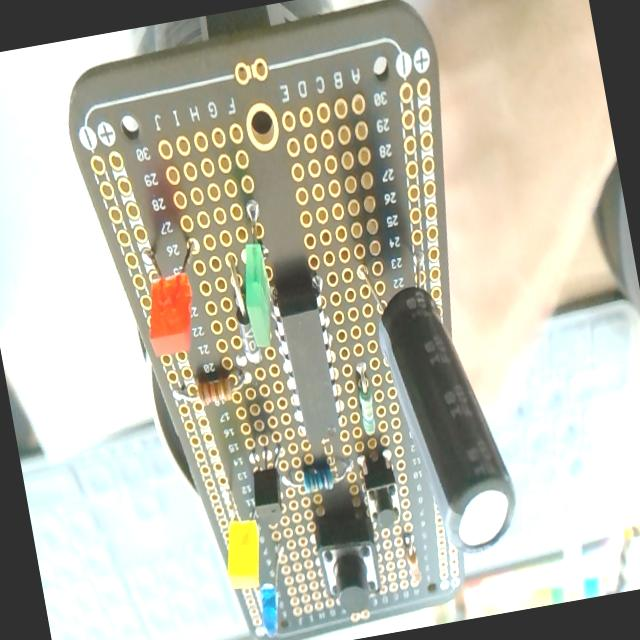Electrolytic capacitor: (356, 232, 524, 564)
IC: (268, 262, 348, 423)
diode: (224, 252, 263, 366)
led: (132, 235, 212, 359), (227, 196, 282, 348), (250, 550, 297, 638), (220, 515, 268, 591)
resistor: (283, 454, 356, 500), (186, 366, 248, 408), (351, 361, 380, 437), (403, 538, 423, 586)
switch: (312, 506, 386, 614), (359, 450, 404, 531)
transistor: (244, 437, 296, 524)
